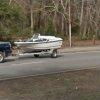Boat: (10, 29, 64, 56)
